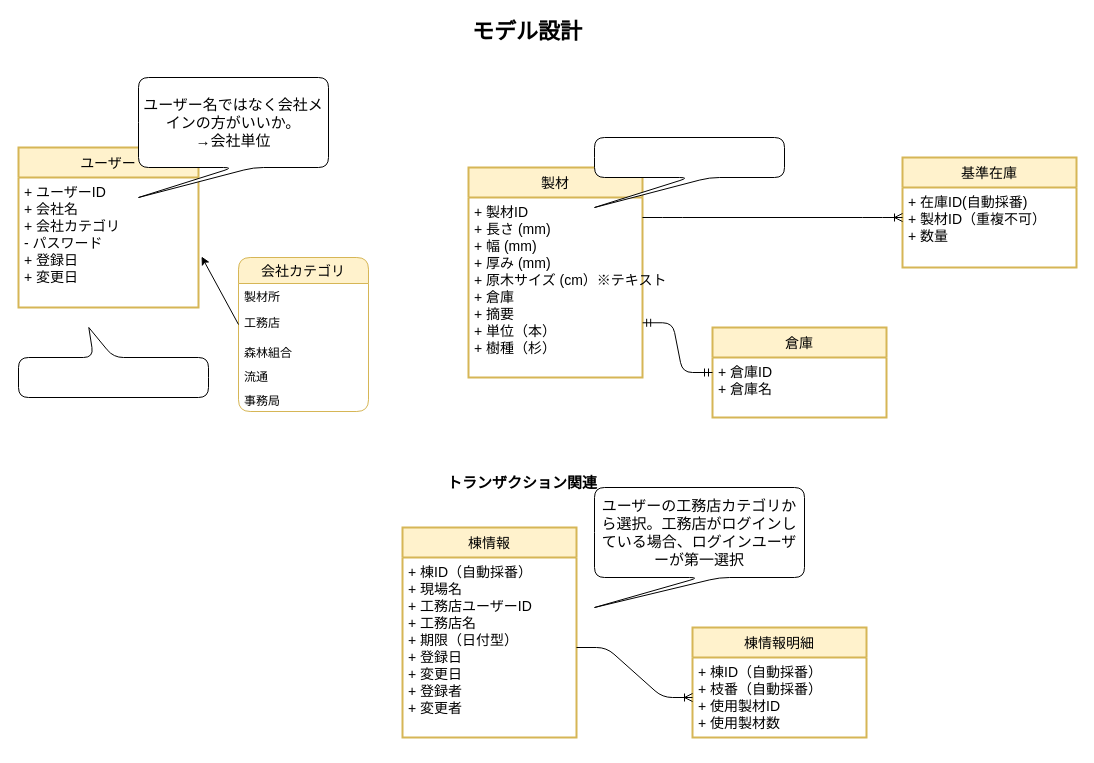
Image size: 1094x763. Some labels were removed from this diagram. Each missing label, with the centre of its shape:
"IDに意味がある方がいいか →一旦無くても大丈夫" belongs at point (689, 172).
"データは削除" belongs at point (113, 362).
